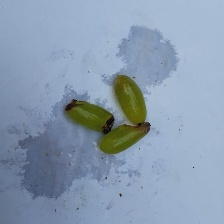grapes: (53, 35, 197, 190)
